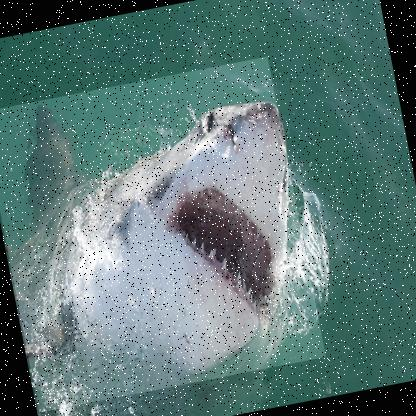bulldog-shark: (0, 55, 325, 413)
